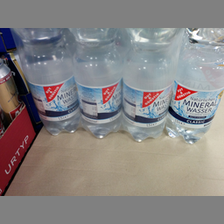water: (11, 29, 79, 139), (121, 29, 178, 142), (168, 29, 224, 142), (66, 29, 120, 139)
